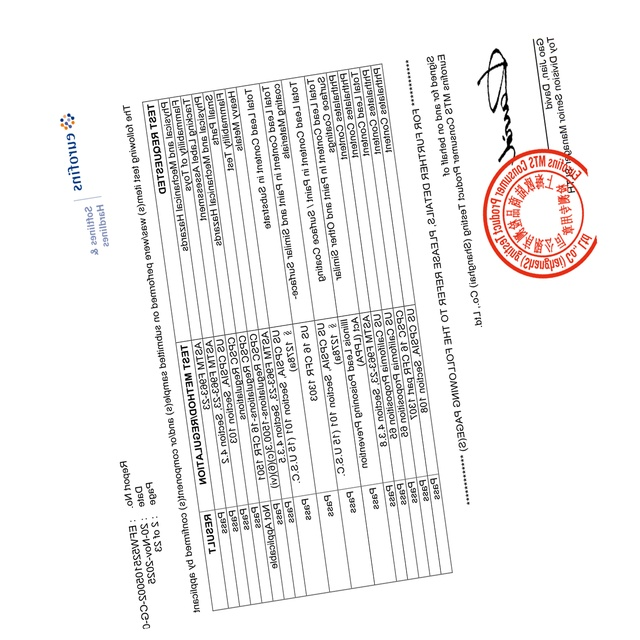eurofins: (56, 108, 92, 197)
